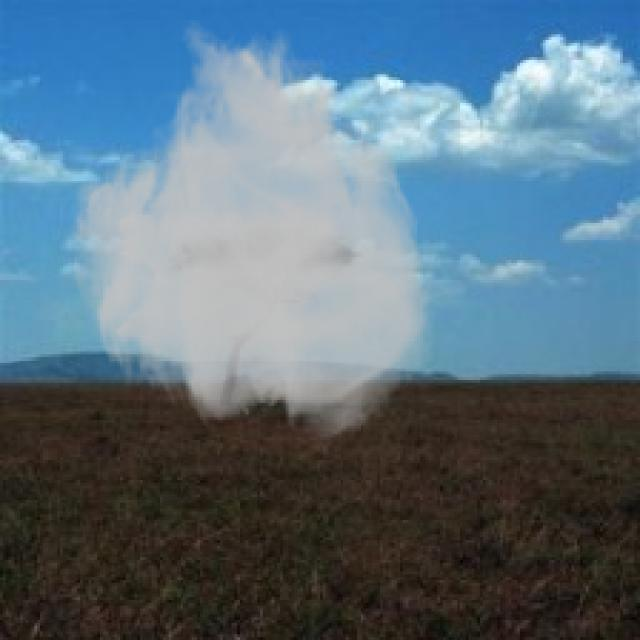Smoke: (69, 17, 438, 443)
